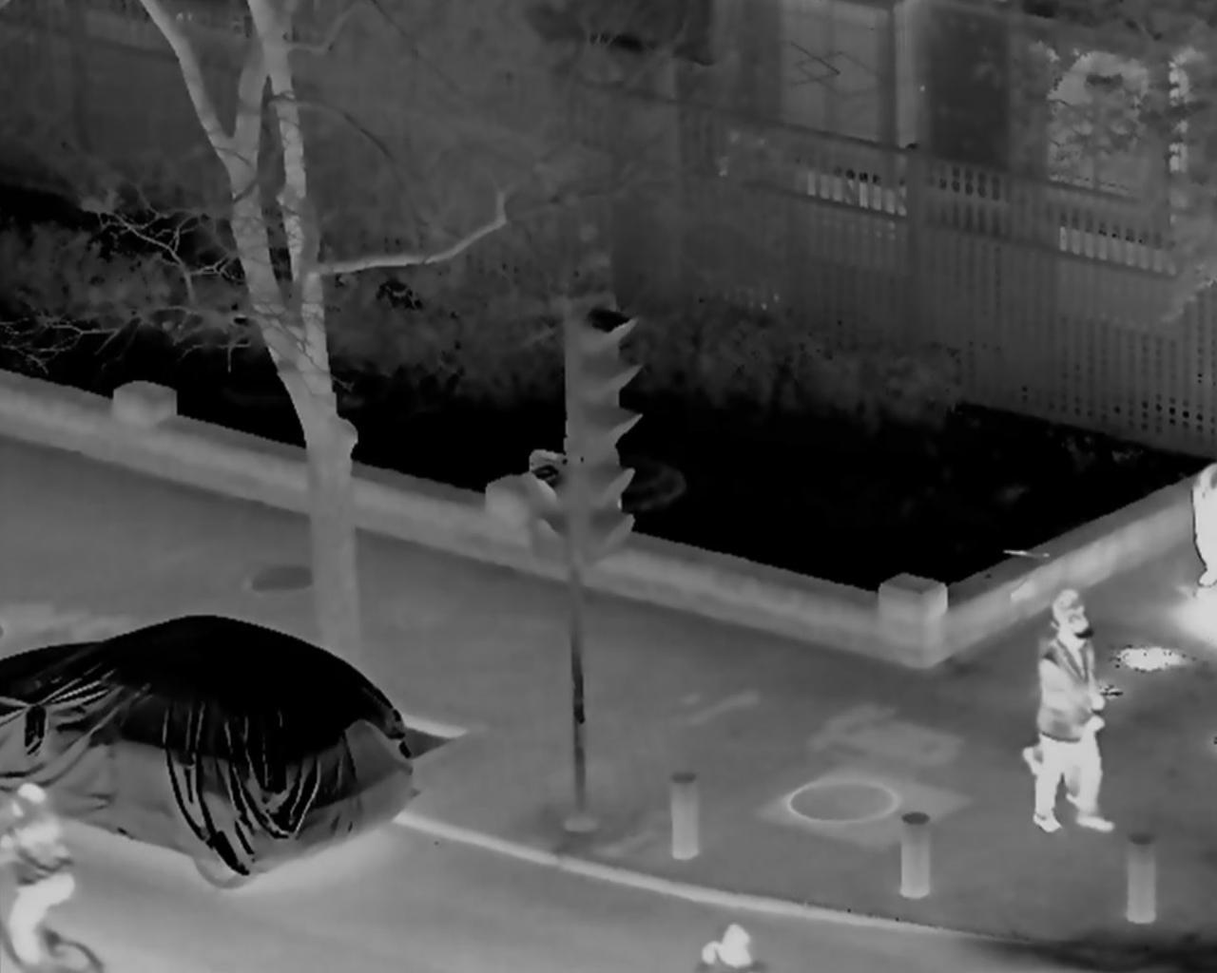person: (1018, 585, 1111, 791), (1033, 625, 1111, 838), (4, 780, 81, 973)
